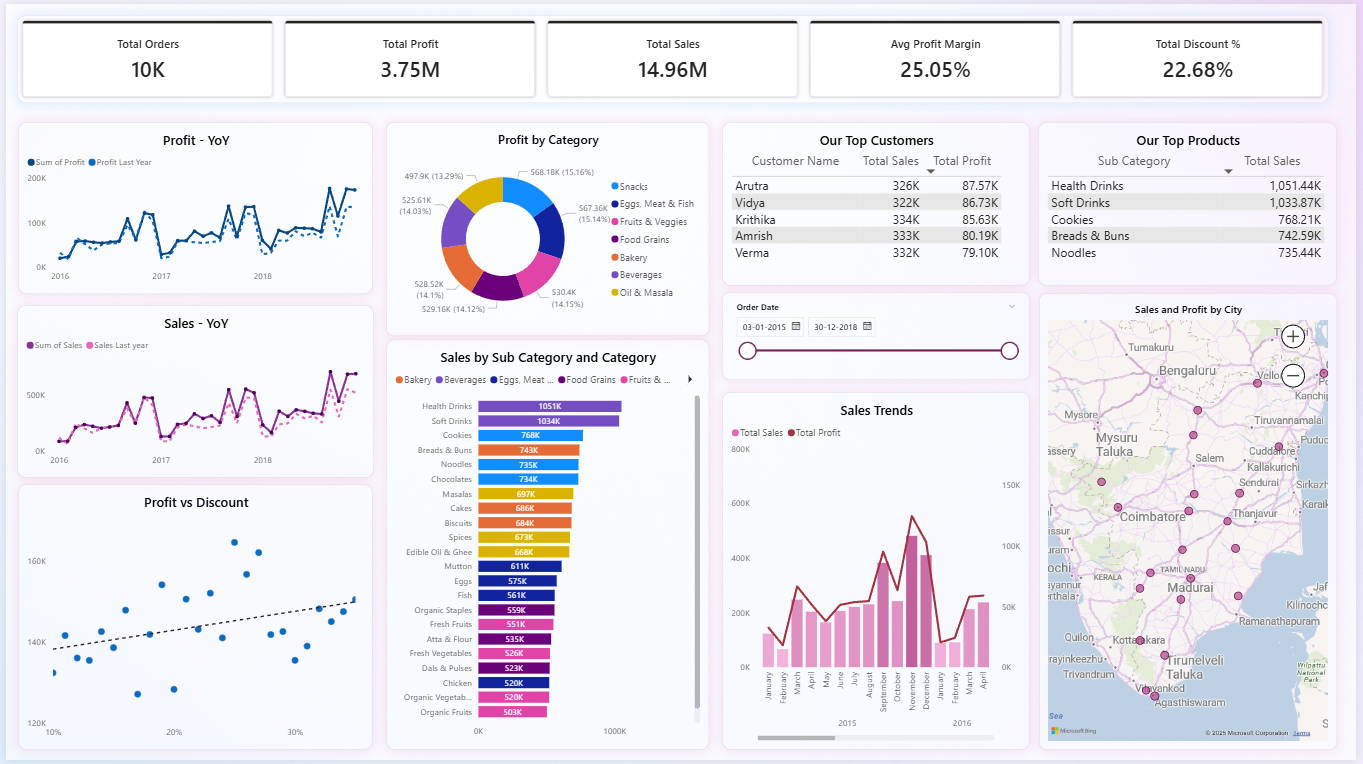

The dashboard page shown, as its layout file describes it:
{"tool":"powerbi","page":{"name":"Page 1","canvas":[1929,1080],"ordinal":0},"visuals":[{"type":"cardVisual","fields":{"Data":["Supermart.Orders by City","Supermart.Total Profit","Supermart.Total Sales","Supermart.Avg Profit Margin","Supermart.Total Discount %"]},"box":[15.7,15.7,1874.3,125.7],"z":0},{"type":"map","title":"Sales and Profit by City","fields":{"Category":["Supermart.City"],"Size":["Supermart.Total Sales"]},"box":[1475.7,412.9,425.7,652.9],"z":1000},{"type":"tableEx","title":"Our Top Customers","fields":{"Values":["Supermart.Customer Name","Supermart.Total Sales","Supermart.Total Profit"]},"box":[1022.9,168.6,440,234.3],"z":2000},{"type":"tableEx","title":"Our Top Products","fields":{"Values":["Supermart.Sub Category","Supermart.Total Sales"]},"box":[1474.3,168.6,427.1,234.3],"z":3000},{"type":"lineClusteredColumnComboChart","title":" Sales Trends","fields":{"Y":["Supermart.Total Sales"],"Y2":["Supermart.Total Profit"],"Category":["DateTable.Date.Variation.Date Hierarchy.Year","DateTable.Date.Variation.Date Hierarchy.Month"]},"box":[1022.9,554.3,440,511.4],"z":4000},{"type":"donutChart","title":"Profit by Category","fields":{"Category":["Supermart.Category"],"Y":["Supermart.Total Profit"]},"box":[542.7,167.9,462.1,306.3],"z":5000},{"type":"barChart","title":"Sales by Sub Category and Category","fields":{"Y":["Supermart.Total Sales"],"Category":["Supermart.Sub Category"],"Series":["Supermart.Category"]},"box":[543.3,478.3,461.7,586.7],"z":6000},{"type":"scatterChart","title":"Profit vs Discount","fields":{"Y":["Supermart.Total Profit"],"X":["Supermart.Discount"]},"box":[17.1,685.7,507.1,380],"z":7000},{"type":"slicer","fields":{"Values":["Supermart.Order Date"]},"box":[1022.9,411.4,440,125.7],"z":8000},{"type":"lineChart","title":"Sales - YoY","fields":{"Y":["Supermart.Sales","Supermart.Sales Last year"],"Category":["DateTable.Date.Variation.Date Hierarchy.Year","DateTable.Date.Variation.Date Hierarchy.Month"]},"box":[15.7,430,510,247.1],"z":9000},{"type":"lineChart","title":"Profit - YoY","fields":{"Y":["Supermart.Profit","Supermart.Profit Last Year"],"Category":["DateTable.Date.Variation.Date Hierarchy.Year","DateTable.Date.Variation.Date Hierarchy.Month"]},"box":[17.1,168.6,507.1,245.7],"z":10000}]}

Visuals, with their boxes in screenshot pixels (x1, y1, x2, y2), scaled from the page's 1929x1080 canvas onto the 1363x764 screenshot:
cardVisual - Supermart.Orders by City x Supermart.Total Profit: <box>11,11,1335,100</box>
"Sales and Profit by City" map: <box>1043,292,1343,754</box>
"Our Top Customers" tableEx: <box>723,119,1034,285</box>
"Our Top Products" tableEx: <box>1042,119,1343,285</box>
" Sales Trends" lineClusteredColumnComboChart: <box>723,392,1034,754</box>
"Profit by Category" donutChart: <box>383,119,710,335</box>
"Sales by Sub Category and Category" barChart: <box>384,338,710,753</box>
"Profit vs Discount" scatterChart: <box>12,485,370,754</box>
slicer - Supermart.Order Date: <box>723,291,1034,380</box>
"Sales - YoY" lineChart: <box>11,304,371,479</box>
"Profit - YoY" lineChart: <box>12,119,370,293</box>
